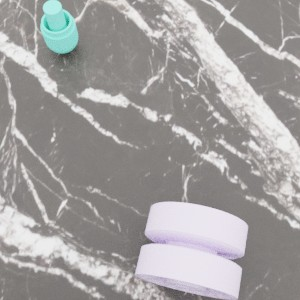lego: (134, 201, 247, 300), (40, 0, 78, 53)
